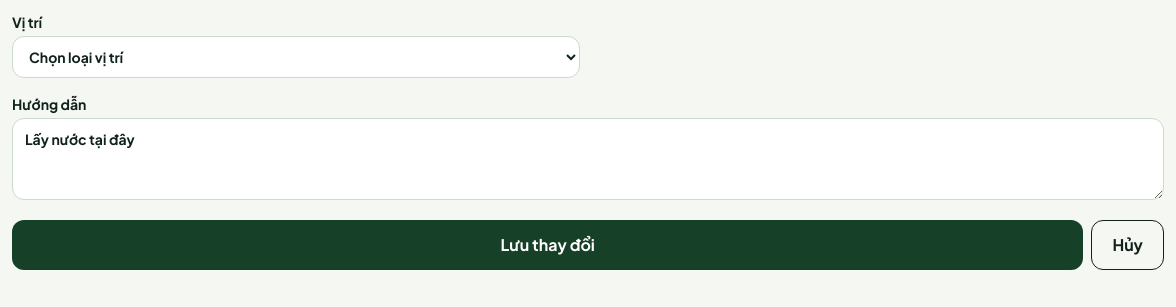
CreateCheckpointForm › asks for a new type when editing a checkpoint with an unrecognized type
Expected: the dropdown labelled "Vị trí" shows "Chọn loại vị trí", [12,36,580,78]
Click the button "Lưu thay đổi". click: (548, 245)
box: [12,220,1083,270]
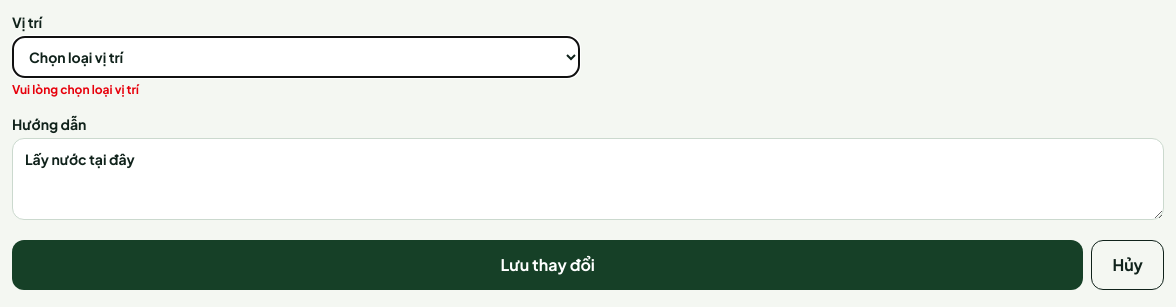
Result: the text "Vui lòng chọn loại vị trí" is shown at [12,82,139,97]
